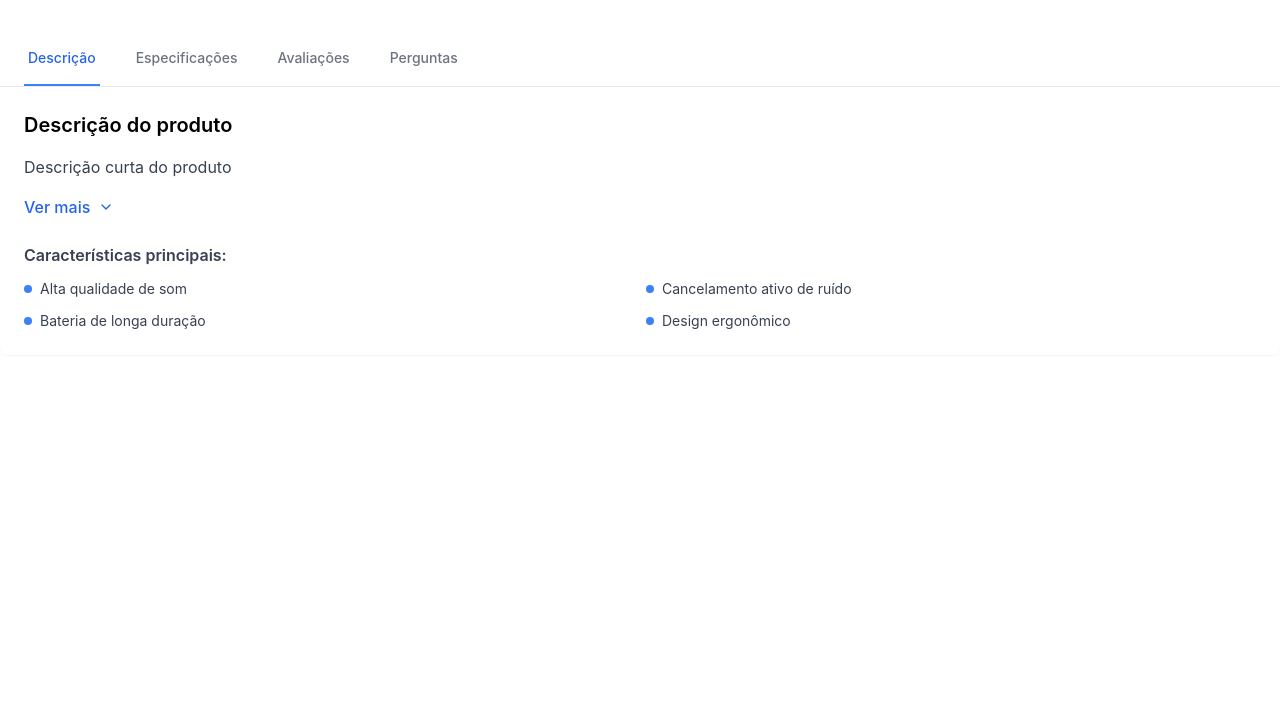
Test: ProductDescription › Tab Navigation › should switch to questions tab when clicked
Click the tab "Perguntas". click: (424, 59)
box: [386, 32, 462, 86]
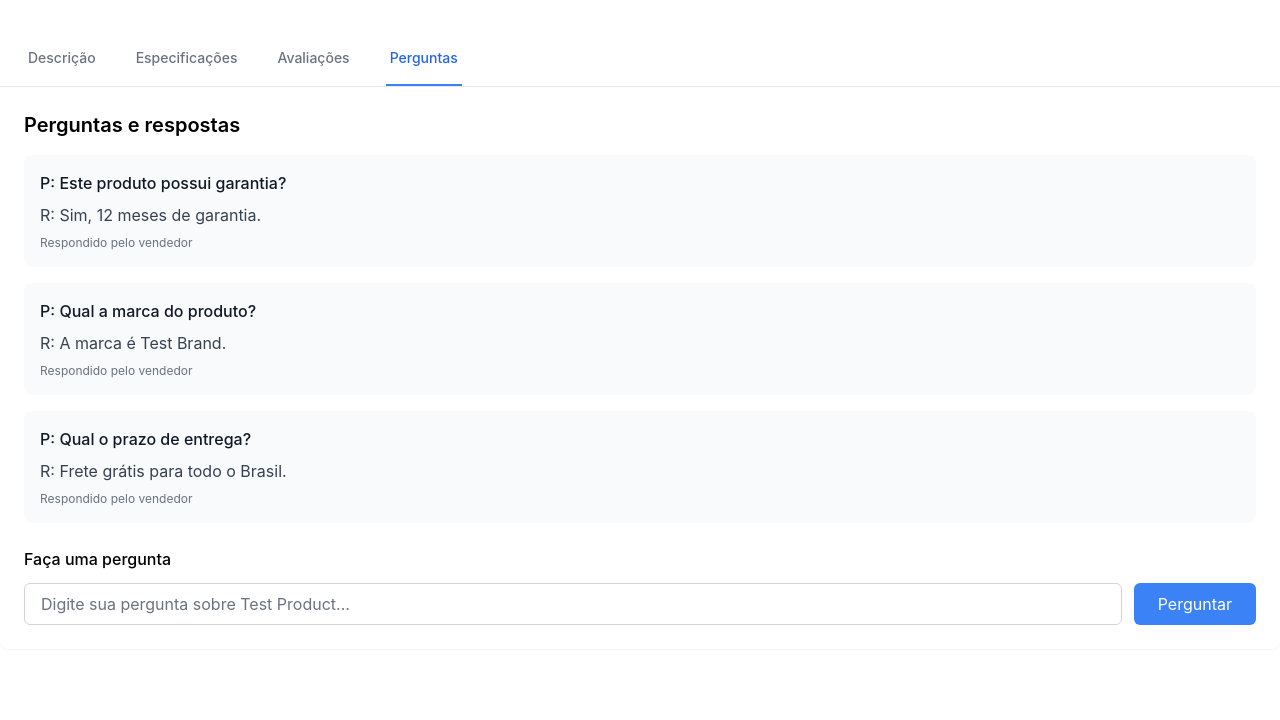
Result: the heading "Perguntas e respostas" is shown at [24, 113, 240, 137]
